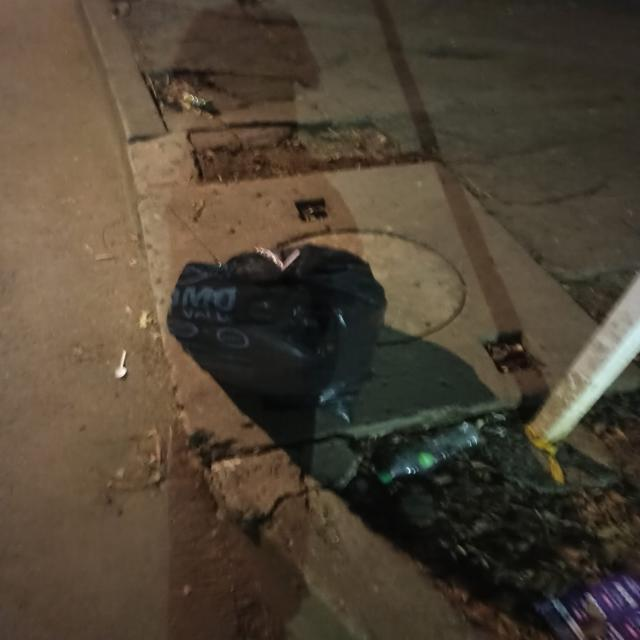Trashbag: (164, 245, 389, 408)
